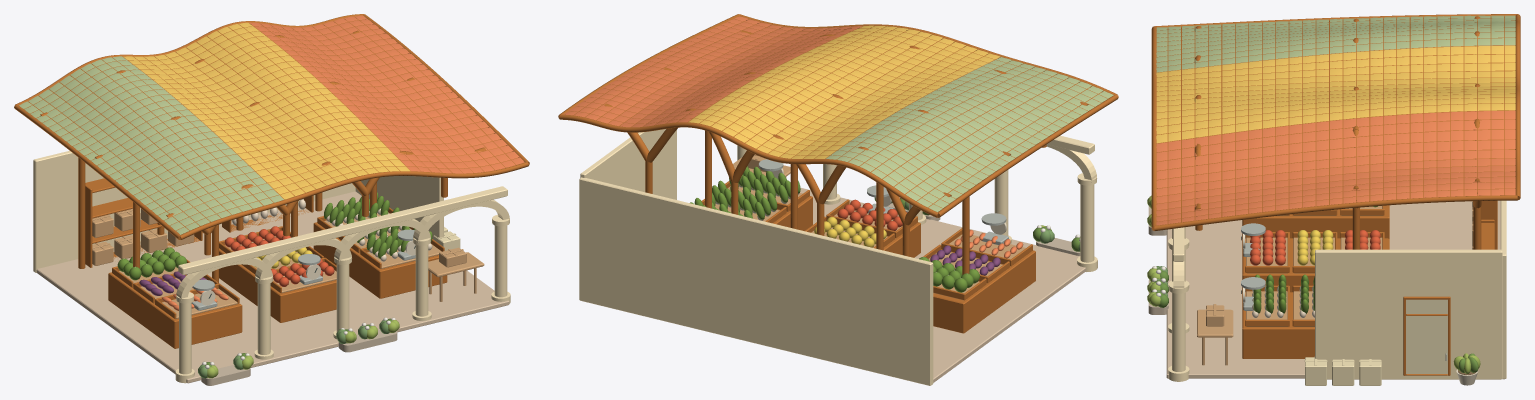
The picture shows the model from 3 angles, left to right: view 1: azimuth 30°, elevation 25°; view 2: azimuth 150°, elevation 25°; view 3: azimuth 270°, elevation 25°; orthographic projection. The views are drawn at different scales.
Visible parts, largest first — view 1: R 波浪陶片, S 市场室内地面, R 连续曲面木底, I 木摊台, A 后勤低墙, R 波浪檐唇, A 拱廊圆柱, A 拱廊顶带, I 礼盒, A 奶油拱券, A 木柱, A 右后勤侧墙 (+18 smaller); view 2: R 波浪陶片, A 后勤低墙, R 连续曲面木底, S 市场室内地面, R 波浪檐唇, I 木摊台, A 右后勤侧墙, A 木柱, A 分枝弧肋, I 叶菜叶, A 拱廊圆柱, I 水果 (+11 smaller); view 3: R 波浪陶片, A 右后勤侧墙, R 连续曲面木底, S 市场室内地面, I 木摊台, R 波浪檐唇, I 水果, I 礼盒, I 分类托盘, I 果箱边框, A 拱廊圆柱, I 叶菜叶 (+16 smaller).
Boxes of the visible parts, x1,y1,x2,y2 form: R 波浪陶片: (19,15,524,234); S 市场室内地面: (36,191,509,383); R 连续曲面木底: (24,18,517,230); I 木摊台: (108,222,447,348); A 后勤低墙: (33,150,355,272); R 波浪檐唇: (14,14,529,239); A 拱廊圆柱: (179,225,507,374); A 拱廊顶带: (178,186,507,274); I 礼盒: (92,208,466,267); A 奶油拱券: (176,199,509,300); A 木柱: (78,157,447,283); A 右后勤侧墙: (355,176,443,239); R 波浪陶片: (564,16,1113,212); A 后勤低墙: (579,177,933,385); R 连续曲面木底: (572,19,1107,208); S 市场室内地面: (800,187,1085,382); R 波浪檐唇: (558,14,1118,217); I 木摊台: (773,196,1035,333); A 右后勤侧墙: (580,129,676,199); A 木柱: (645,130,1046,274); A 分枝弧肋: (604,30,1088,225); I 叶菜叶: (690,166,800,219); A 拱廊圆柱: (737,145,1094,262); I 水果: (814,199,907,247); R 波浪陶片: (1156,15,1515,225); A 右后勤侧墙: (1315,249,1502,379); R 连续曲面木底: (1157,18,1514,223); S 市场室内地面: (1166,200,1500,378); I 木摊台: (1242,205,1389,358); R 波浪檐唇: (1151,14,1520,230); I 水果: (1250,230,1380,265); I 礼盒: (1206,201,1473,385); I 分类托盘: (1246,206,1382,326); I 果箱边框: (1245,209,1384,326); A 拱廊圆柱: (1172,227,1185,371); I 叶菜叶: (1253,274,1314,313).
Bounding box in the file's own units: 22.41 × 11.79 × 18.5.
